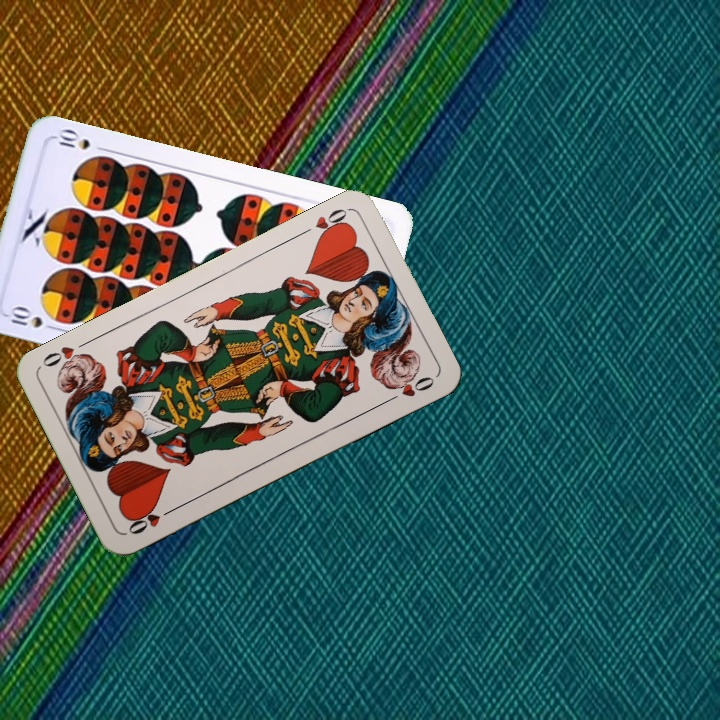HO: (297, 204, 352, 242), (124, 503, 178, 537)
S10: (7, 303, 61, 333)
